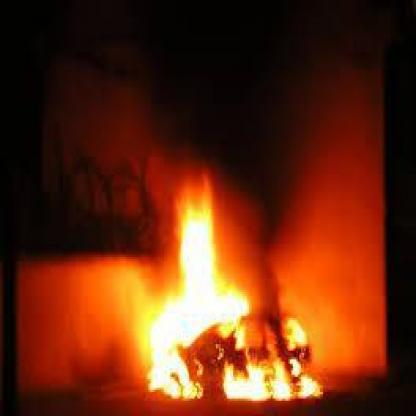fire: (100, 155, 344, 404)
